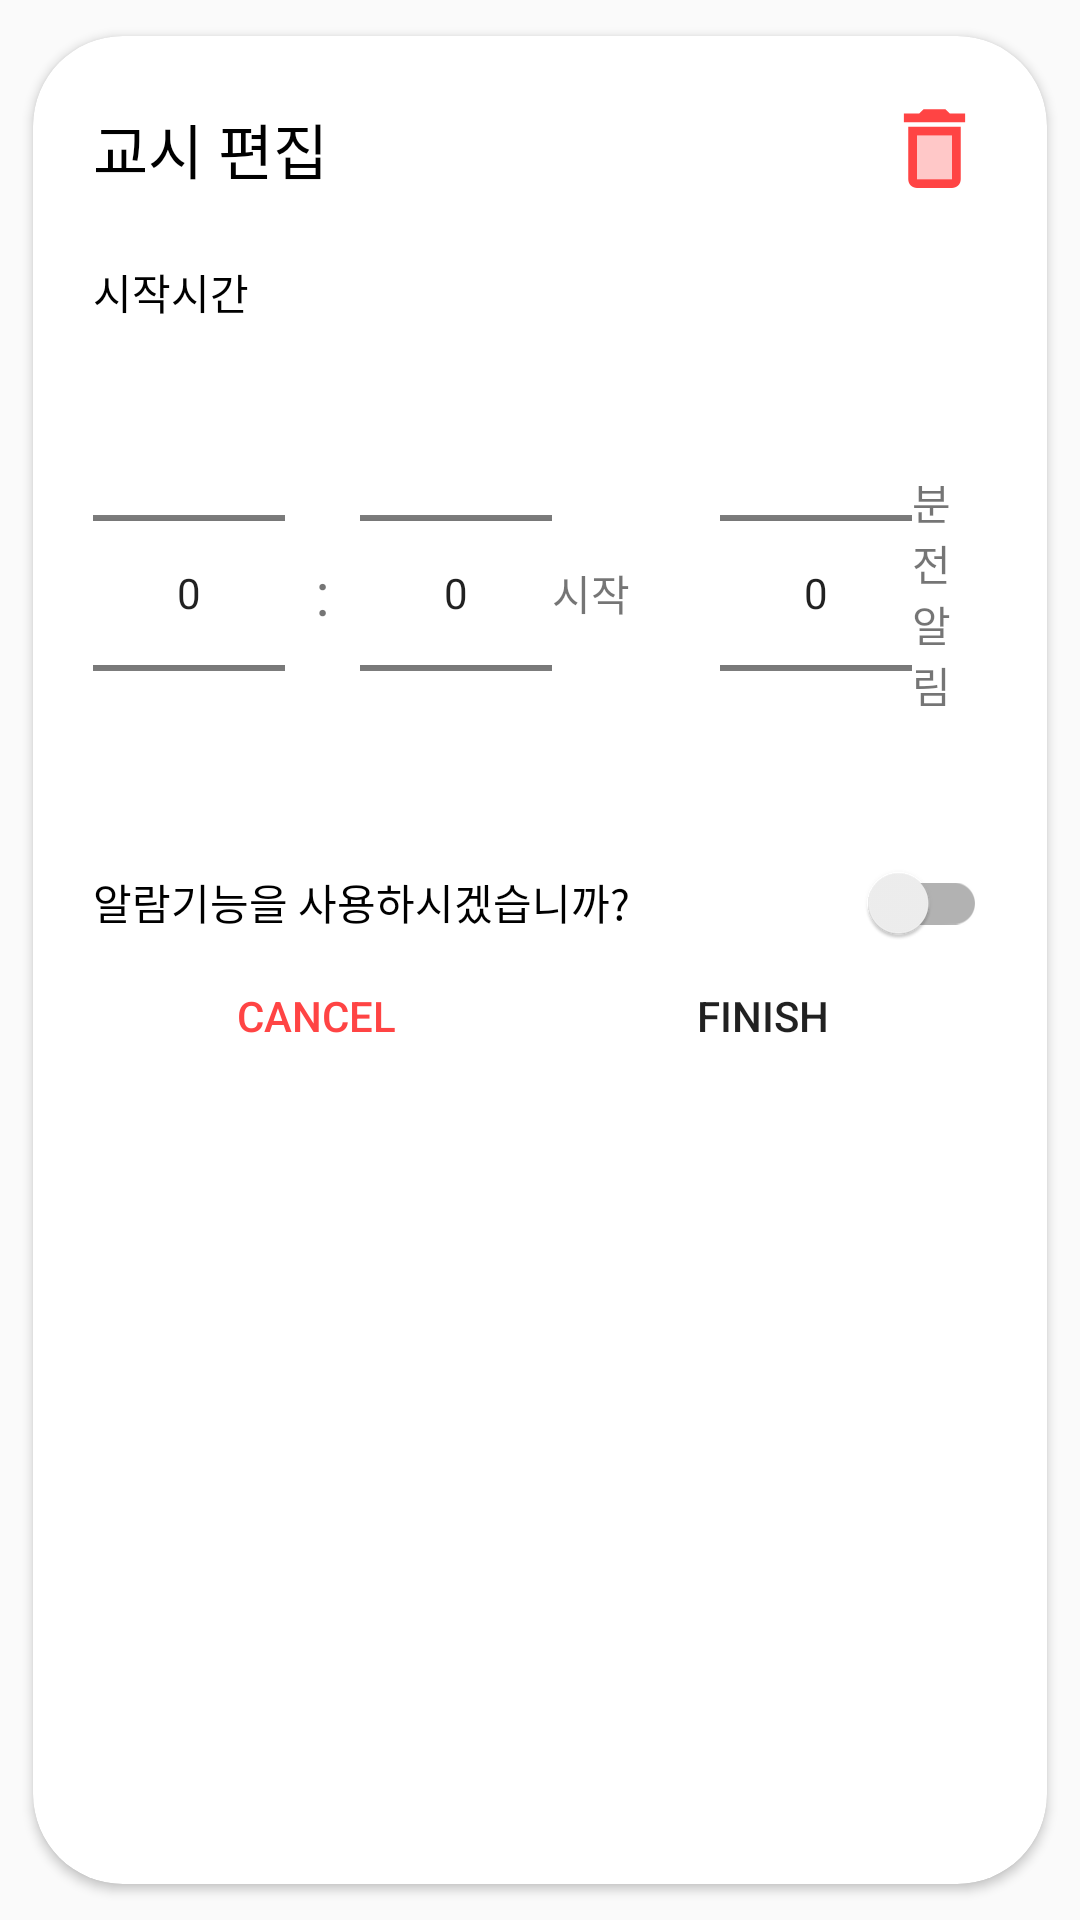

Named icons in this screenshot (1080px x 1920px) and their bounding boxes, (x1, y1, x2, y2):
delete: (904, 109, 965, 188)
